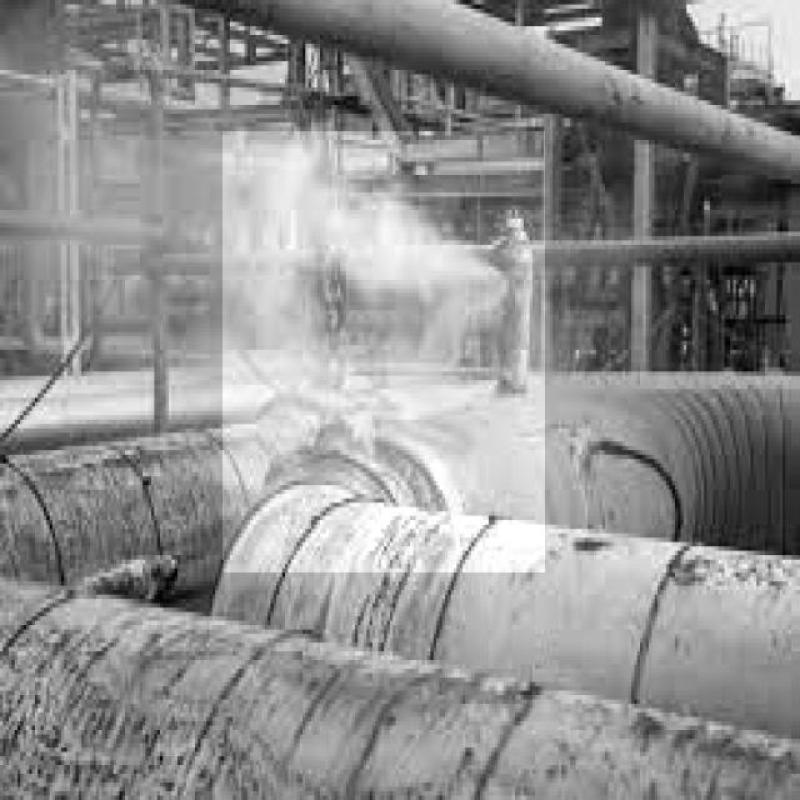Fracture: (308, 204, 523, 446), (302, 442, 308, 446)
